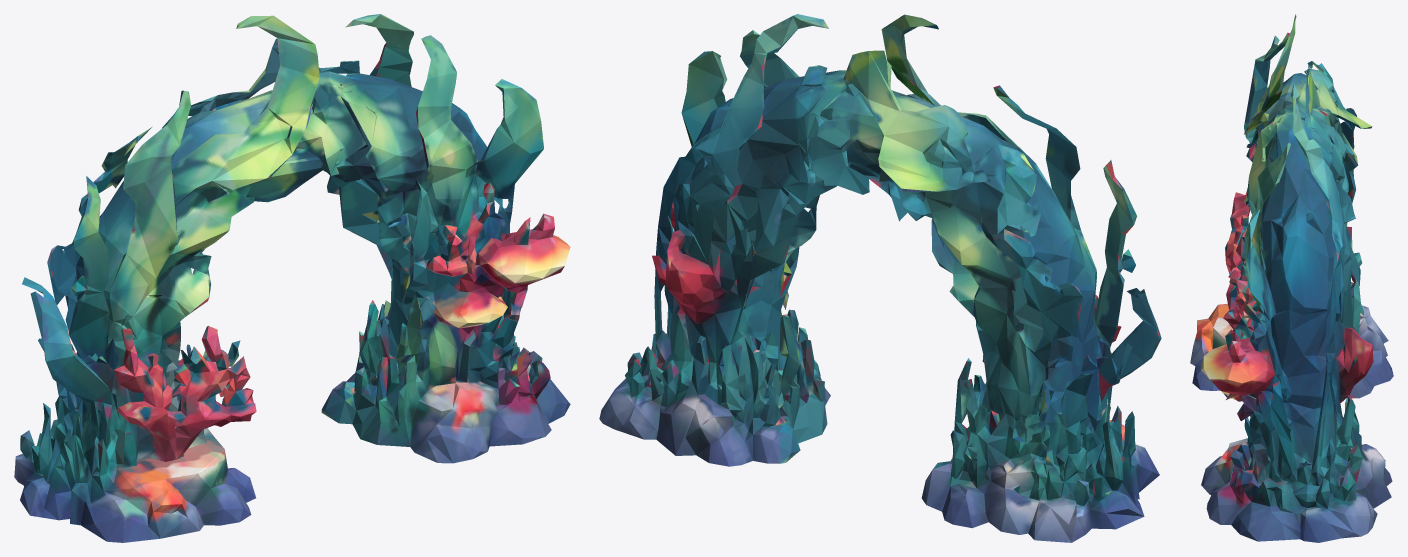
File: sea_kelp_arch_1117.glb
3 renders of one model, left to right at view 1: azimuth 30°, elevation 25°; view 2: azimuth 150°, elevation 25°; view 3: azimuth 270°, elevation 25°, orthographic. The views are drawn at different scales.
Parts seen in each view (by area): view 1: tmphcs79_n4.ply; view 2: tmphcs79_n4.ply; view 3: tmphcs79_n4.ply.
Boxes of the visible parts, x1,y1,x2,y2 form: tmphcs79_n4.ply: [14, 14, 570, 542]; tmphcs79_n4.ply: [599, 14, 1161, 542]; tmphcs79_n4.ply: [1190, 14, 1393, 542].
Size of the model in its own units: 1.99 by 1.63 by 0.7557.
1 material, 1 textured.
